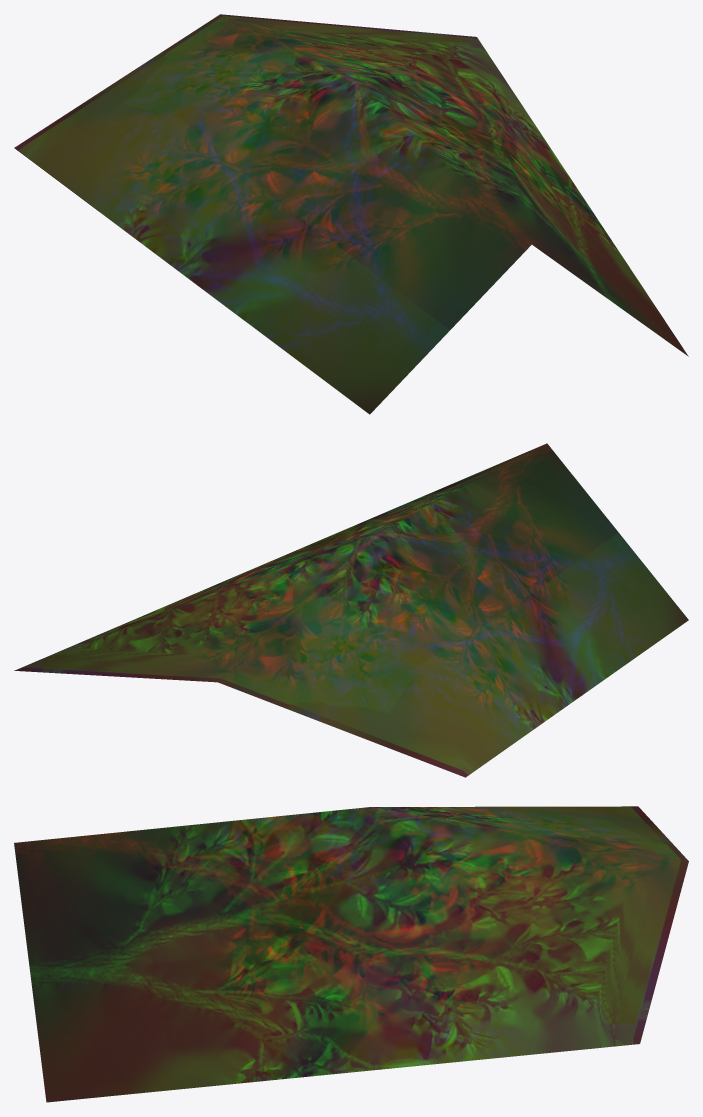
Rendered from Bush_03_Mesh.fbx.
3 renders of one model, top to bottom at view 1: azimuth 30°, elevation 25°; view 2: azimuth 150°, elevation 25°; view 3: azimuth 270°, elevation 25°, orthographic. The views are drawn at different scales.
Visible parts, largest first — view 1: Bush_03_Mesh; view 2: Bush_03_Mesh; view 3: Bush_03_Mesh.
Part boxes in pixels (x1,y1,x2,y2): Bush_03_Mesh: (14, 14, 688, 414); Bush_03_Mesh: (14, 443, 688, 777); Bush_03_Mesh: (14, 806, 688, 1102).
Bounding box in the file's own units: 1.89 × 0.7782 × 2.29.
